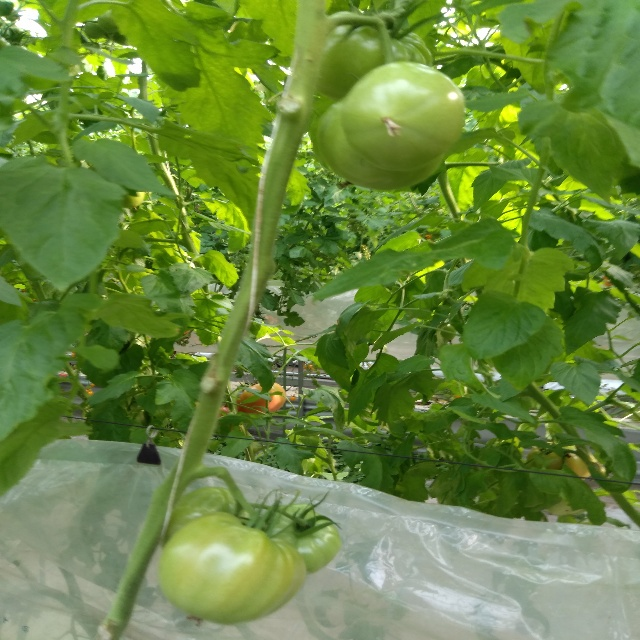b_green: (158, 511, 307, 625), (336, 61, 464, 172), (316, 100, 444, 191), (313, 12, 433, 101), (256, 504, 341, 576), (162, 486, 252, 549)
b_half_ripened: (240, 381, 287, 414)
